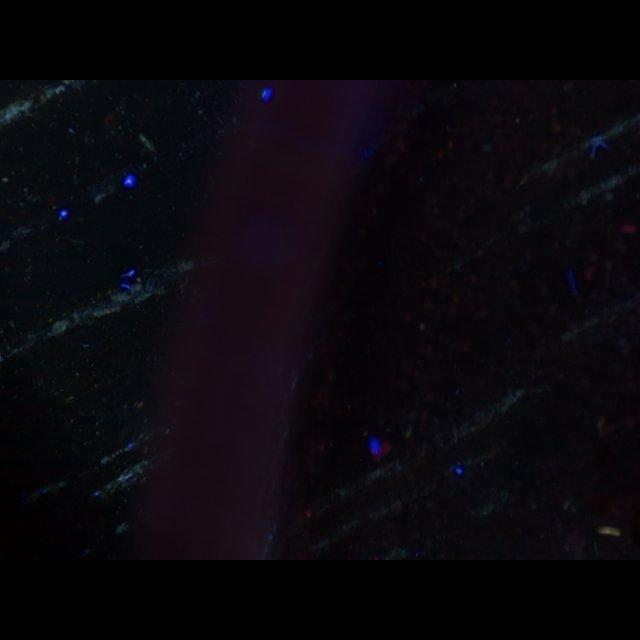microbeads: (598, 522, 622, 540)
